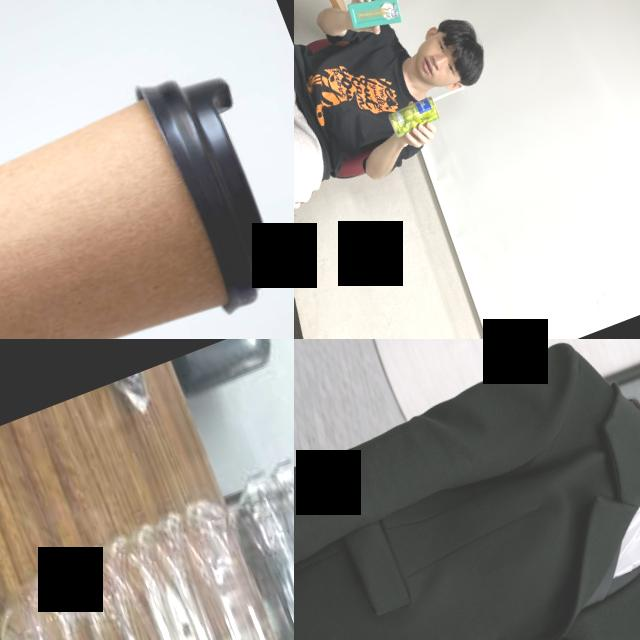bottle: (0, 359, 294, 640)
can: (385, 96, 442, 140)
cup: (0, 55, 292, 339)
